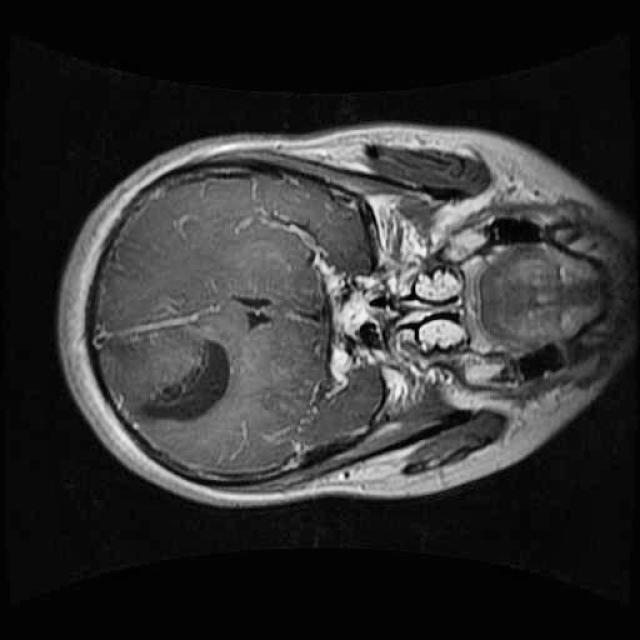Tumor: (96, 322, 245, 438)
